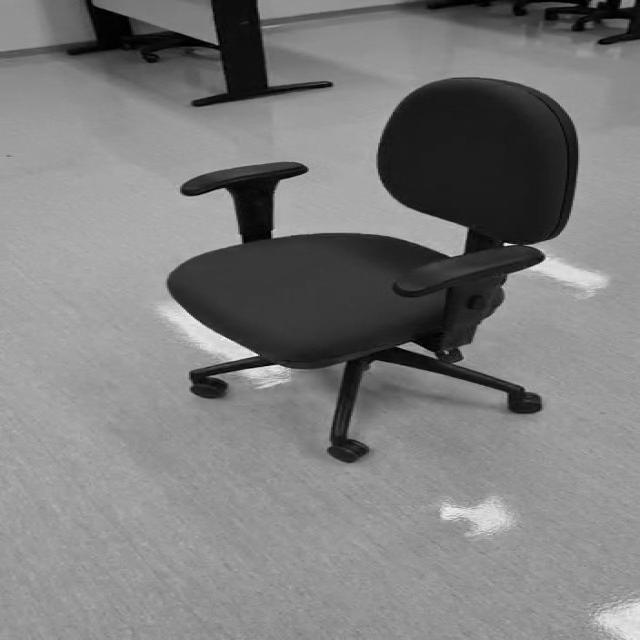cadeira-azul: (166, 76, 578, 461)
